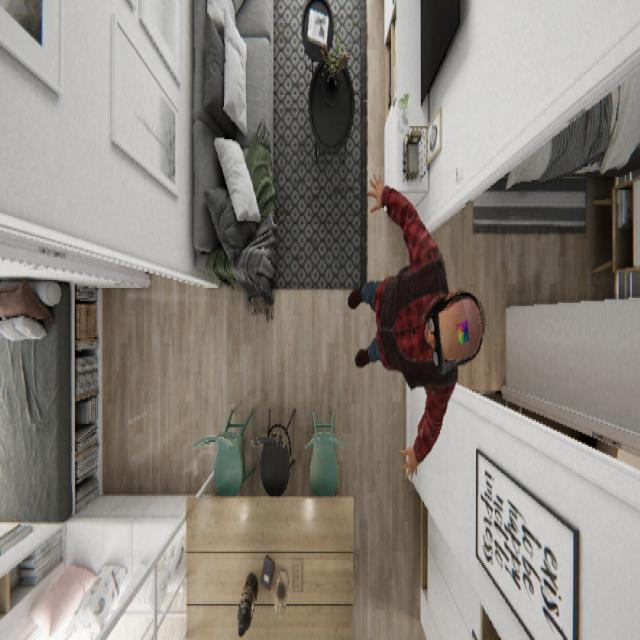Colored-Marker: (454, 316, 470, 345)
Human: (346, 170, 486, 481)
